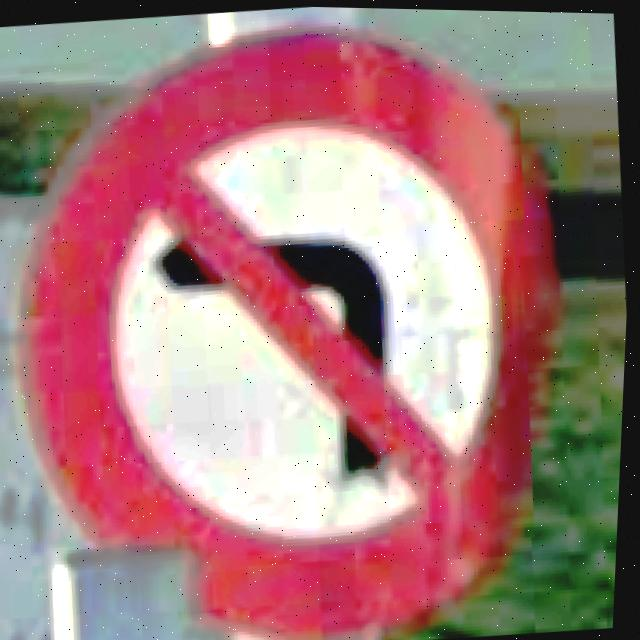noturnleft: (0, 0, 598, 640)
